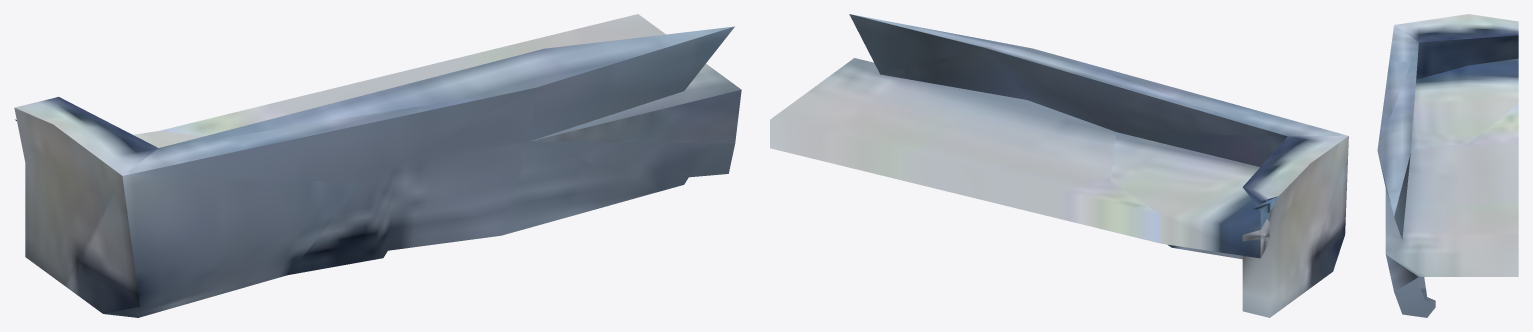
3 renders of one model, left to right at view 1: azimuth 30°, elevation 25°; view 2: azimuth 150°, elevation 25°; view 3: azimuth 270°, elevation 25°, orthographic. The views are drawn at different scales.
Parts seen in each view (by area): view 1: 30436272704361407441_0; view 2: 30436272704361407441_0; view 3: 30436272704361407441_0.
Part boxes in pixels (left/top/right/bottom): 30436272704361407441_0: left=14, top=14, right=741, bottom=317; 30436272704361407441_0: left=770, top=14, right=1348, bottom=317; 30436272704361407441_0: left=1377, top=14, right=1518, bottom=317.
Size of the model in its own units: 8.75 by 2.16 by 2.62.
Materials: 1 (1 with a texture image).
